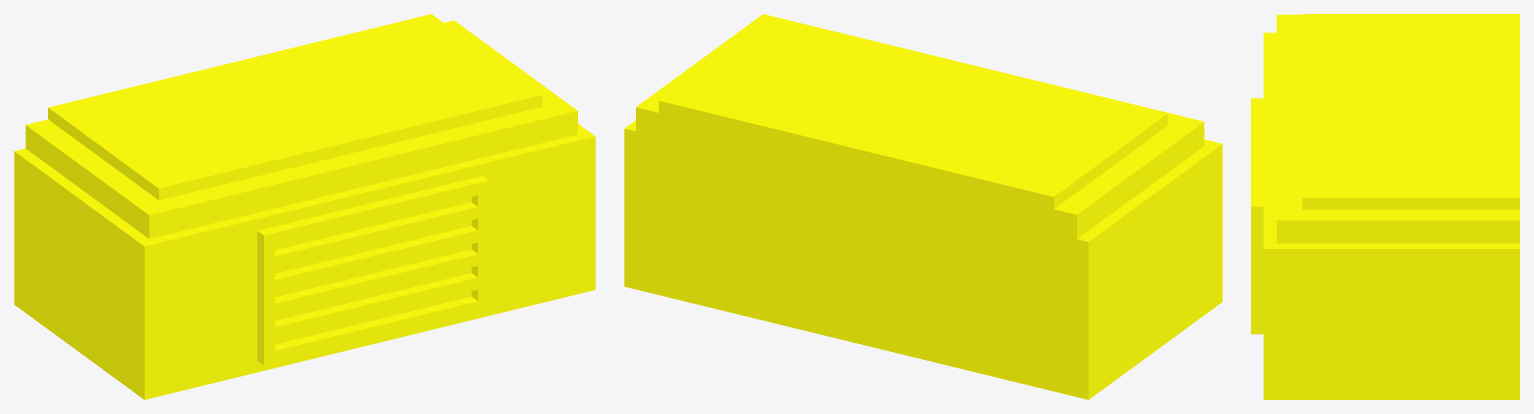
The model's file is BuildingBlock_24.glb.
3 views of the same model, side by side, from view 1: azimuth 30°, elevation 25°; view 2: azimuth 150°, elevation 25°; view 3: azimuth 270°, elevation 25° (orthographic). The views are drawn at different scales.
Visible parts, largest first — view 1: BuildingBlock_24; view 2: BuildingBlock_24; view 3: BuildingBlock_24.
Part boxes in pixels (box(x1,y1,x2,y2)): BuildingBlock_24: box(14, 14, 595, 399); BuildingBlock_24: box(624, 14, 1222, 399); BuildingBlock_24: box(1251, 14, 1519, 399).
Bounding box in the file's own units: 4 × 1.6 × 2.1.
Materials: 1 (1 with a texture image).
